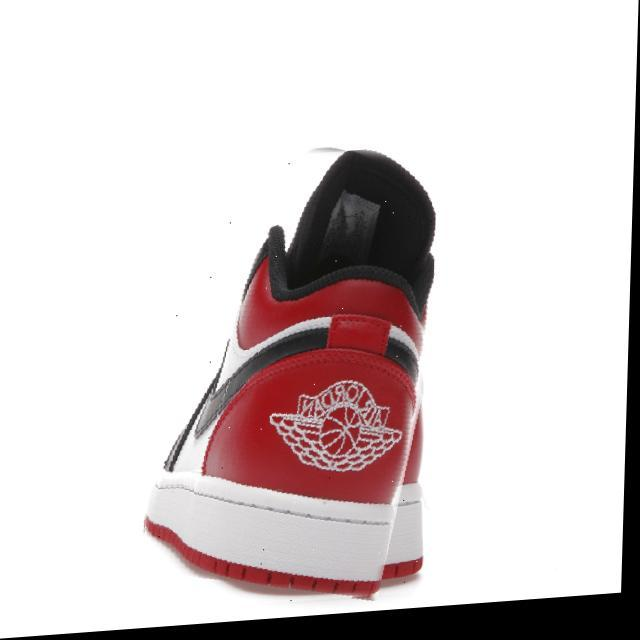J1_InsoleChar: (2, 1, 635, 638)
J1_MateComp: (143, 146, 437, 598)
J1_ShoeLogo: (268, 377, 402, 473)
J1_StitchPattern: (160, 311, 421, 473), (142, 475, 425, 599), (152, 474, 396, 530), (160, 338, 232, 473), (315, 187, 383, 268), (382, 321, 420, 382)
